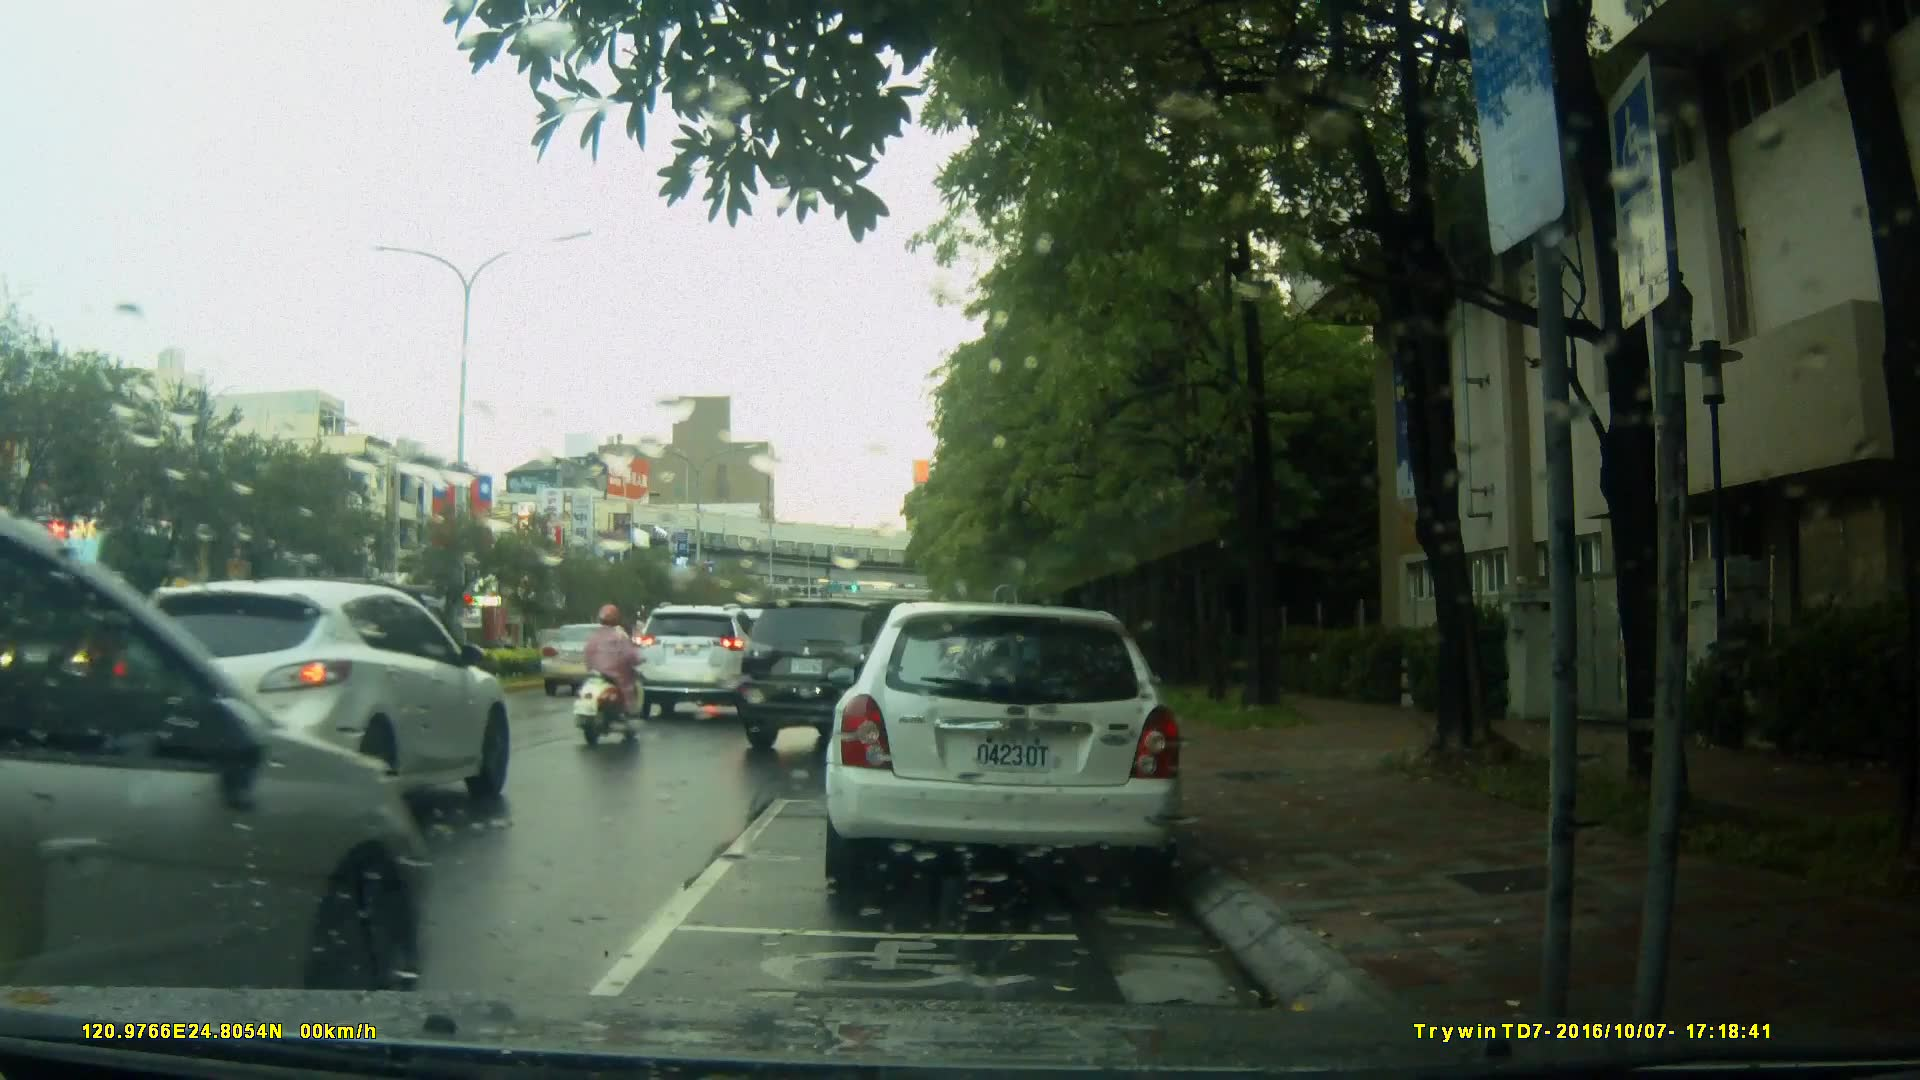rider: (577, 602, 653, 752)
vehicle: (1, 498, 439, 992), (820, 602, 1188, 898), (105, 576, 516, 832), (735, 598, 971, 756), (630, 604, 775, 722), (539, 620, 642, 697)
